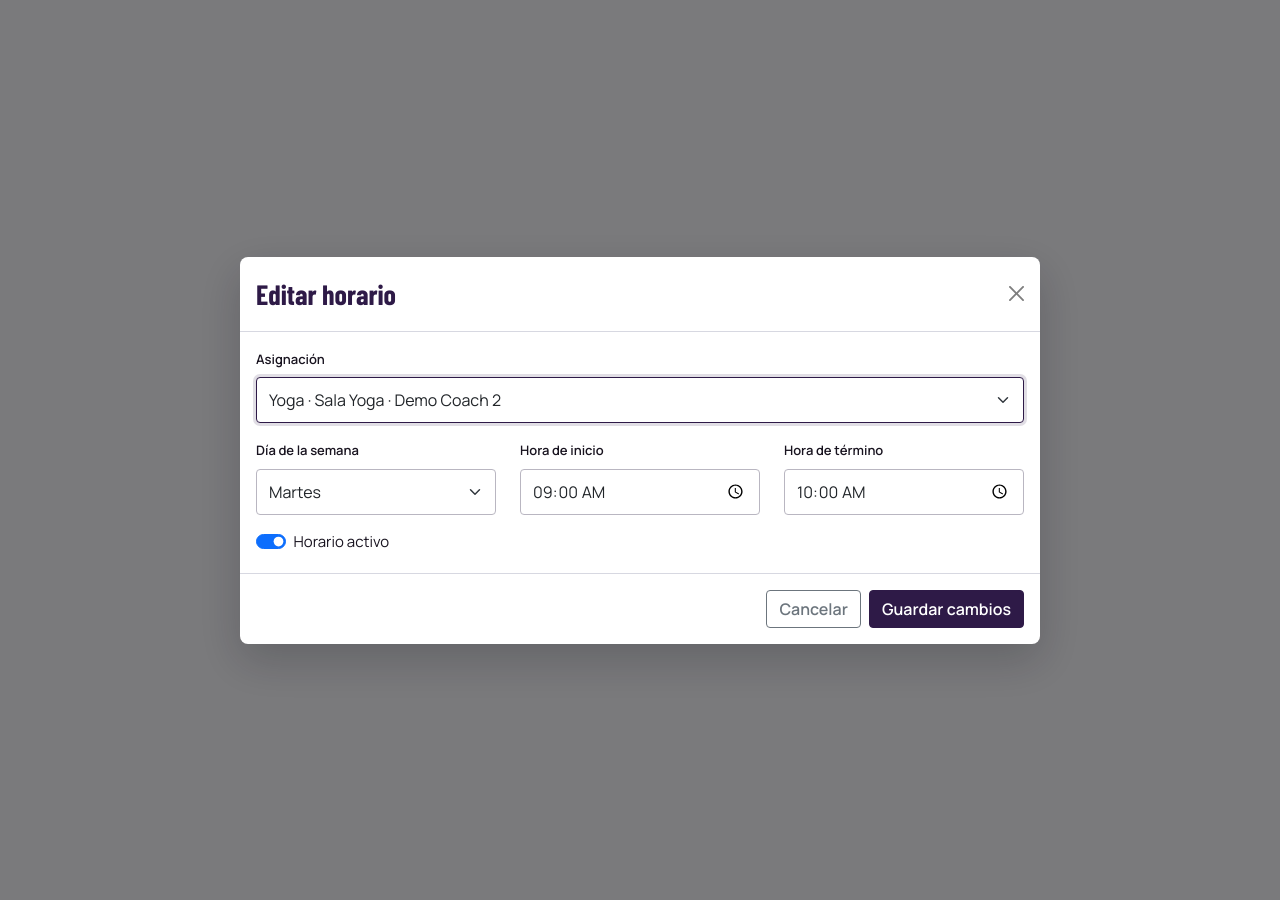
Test case: ScheduleFormModal › keeps duplicate API errors visible and does not close the modal
Click the button "Guardar cambios". click: [946, 608]
box: 869,590 -> 1024,628
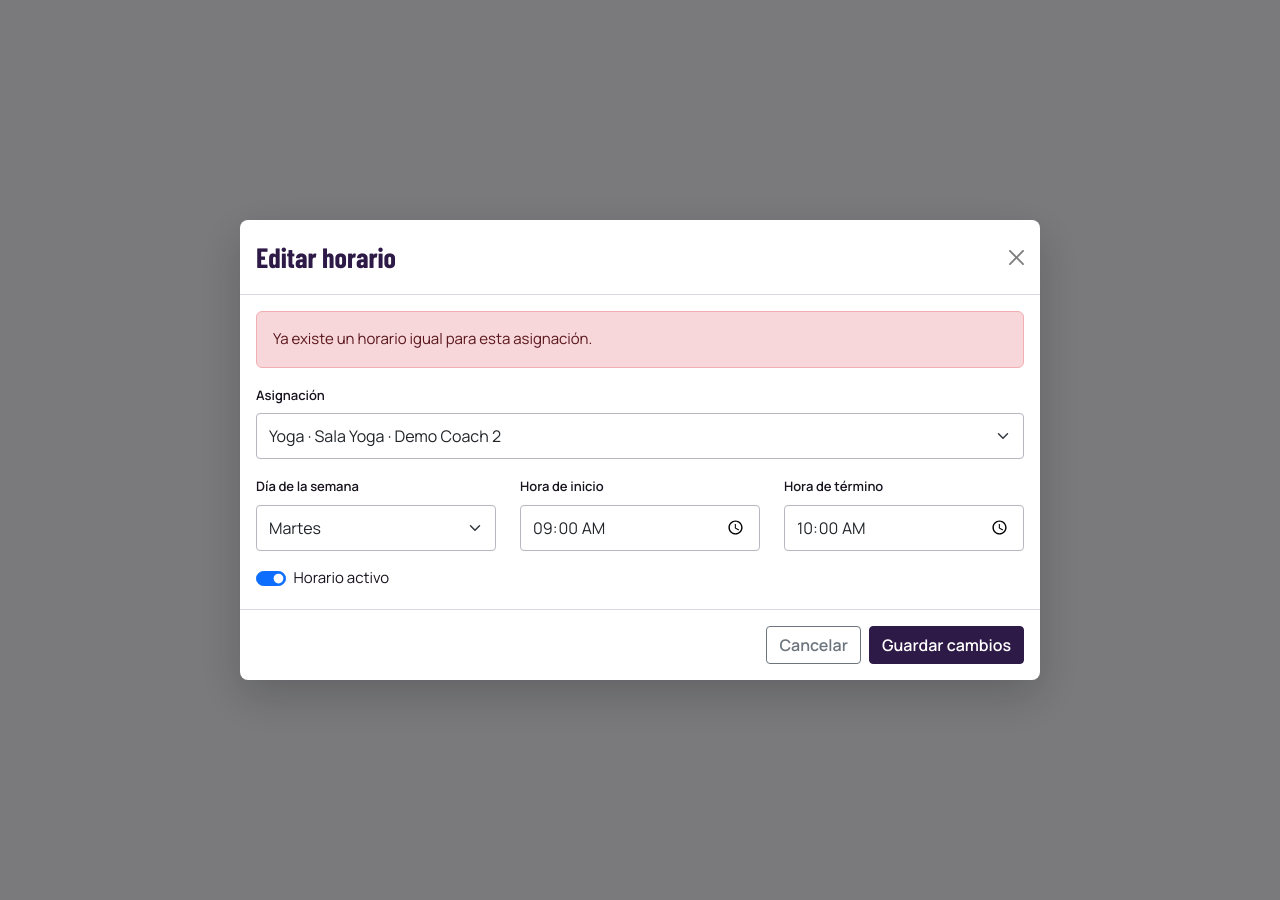
Expected: the dialog is shown, 240,220 -> 1040,680
Expected: the message reads "Ya existe un horario igual para esta asignación.", 273,328 -> 592,349
